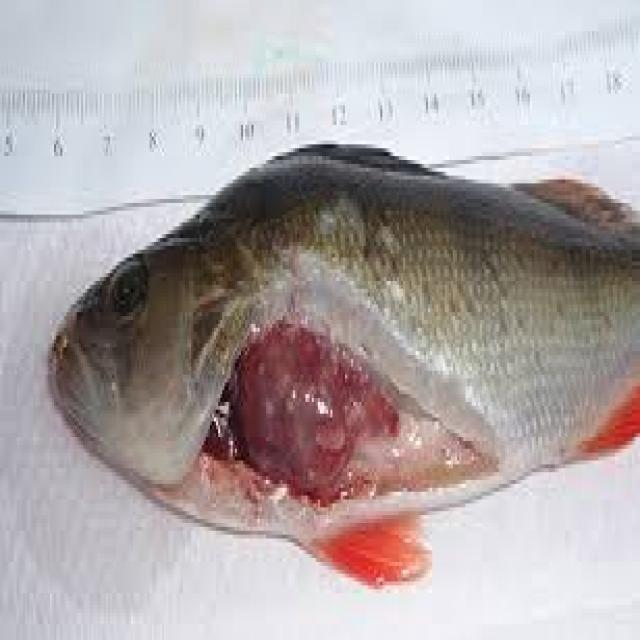EUS Disease: (26, 143, 628, 585), (104, 222, 566, 587)
